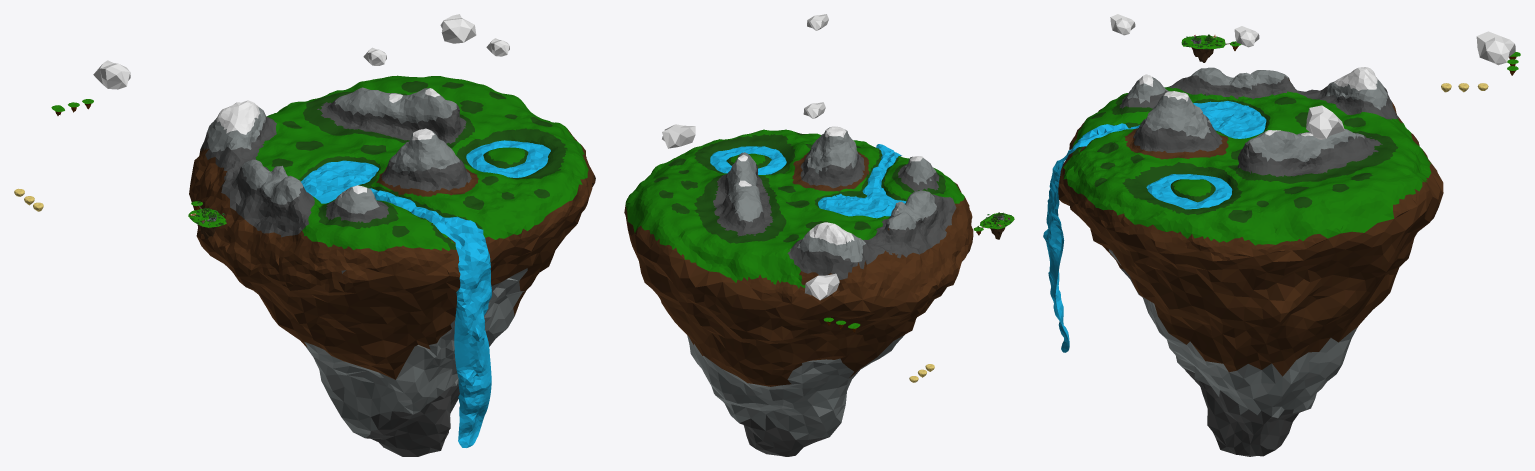
Rendered from HauptweltFertig.fbx.
3 views of the same model, side by side, from view 1: azimuth 30°, elevation 25°; view 2: azimuth 150°, elevation 25°; view 3: azimuth 270°, elevation 25° (orthographic). The views are drawn at different scales.
Parts seen in each view (by area): view 1: WeltSmart.001, WasserSmart.001, Wolke.002, TutorialPlattform, Wolke; view 2: WeltSmart.001, WasserSmart.001, Wolke, Wolke.002, TutorialPlattform; view 3: WeltSmart.001, WasserSmart.001, Wolke, Wolke.002, TutorialPlattform.
Part boxes in pixels (box(x1,y1,x2,y2)): WeltSmart.001: box(189, 75, 595, 456); WasserSmart.001: box(301, 140, 550, 447); Wolke.002: box(440, 14, 476, 43); TutorialPlattform: box(188, 201, 226, 239); Wolke: box(93, 60, 130, 89); WeltSmart.001: box(624, 126, 973, 456); WasserSmart.001: box(710, 144, 906, 218); Wolke: box(805, 273, 839, 300); Wolke.002: box(662, 124, 695, 148); TutorialPlattform: box(973, 212, 1014, 239); WeltSmart.001: box(1058, 67, 1443, 456); WasserSmart.001: box(1043, 101, 1266, 352); Wolke: box(1476, 31, 1515, 65); Wolke.002: box(1306, 105, 1344, 139); TutorialPlattform: box(1181, 34, 1241, 62).
Bounding box in the file's own units: 89726 × 89987 × 87020.
